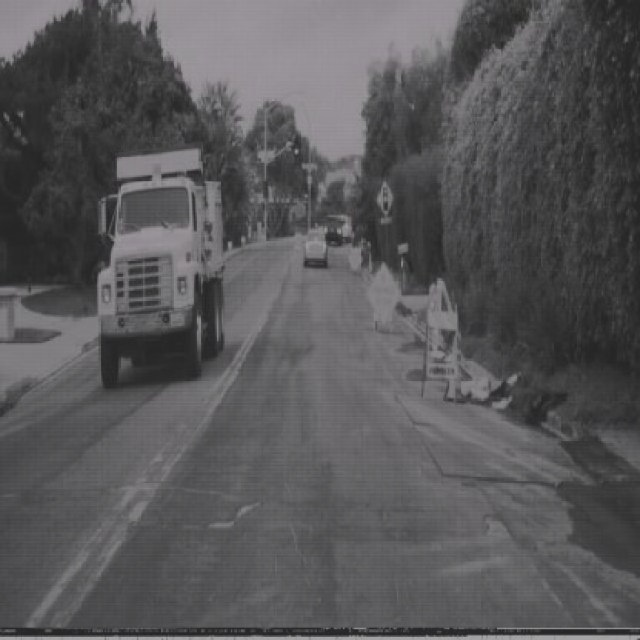signalAhead: (375, 178, 394, 218)
